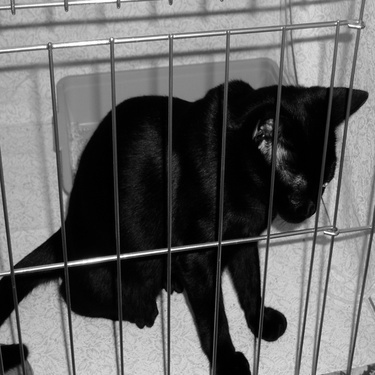cat: (5, 75, 370, 372)
